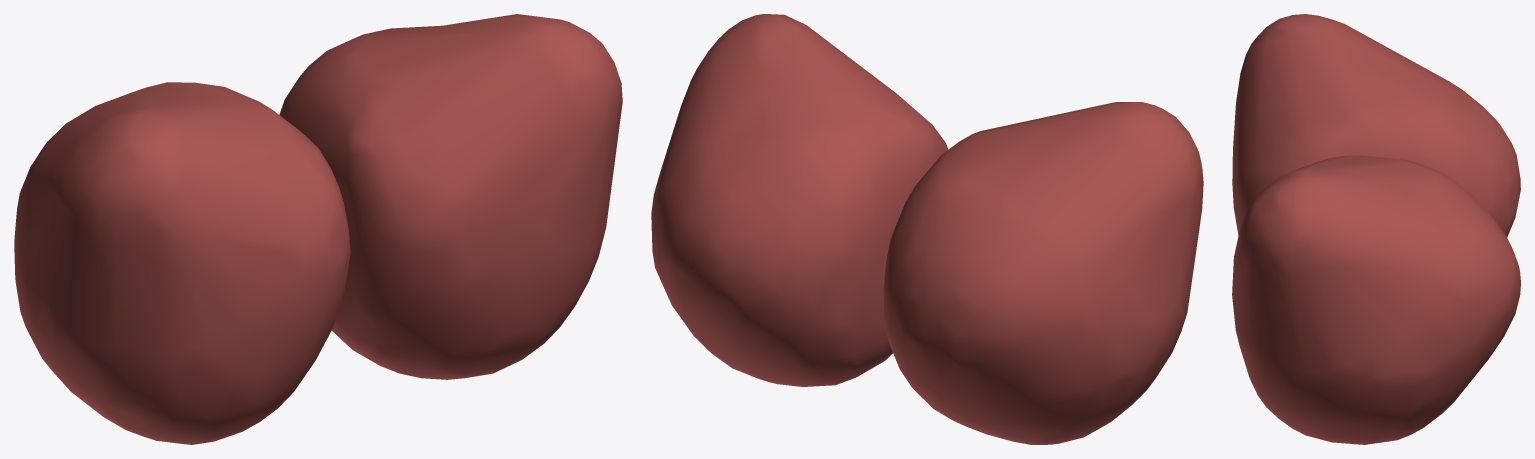
Rendered from FMA74877.glb.
The picture shows the model from 3 angles, left to right: view 1: azimuth 30°, elevation 25°; view 2: azimuth 150°, elevation 25°; view 3: azimuth 270°, elevation 25°; orthographic projection. The views are drawn at different scales.
Visible parts, largest first — view 1: FMA74877; view 2: FMA74877; view 3: FMA74877.
Part boxes in pixels (bbox=[...]): FMA74877: bbox=[14, 14, 622, 444]; FMA74877: bbox=[651, 14, 1203, 444]; FMA74877: bbox=[1232, 14, 1520, 444].
Size of the model in its own units: 0.00782 by 0.00479 by 0.00441.
